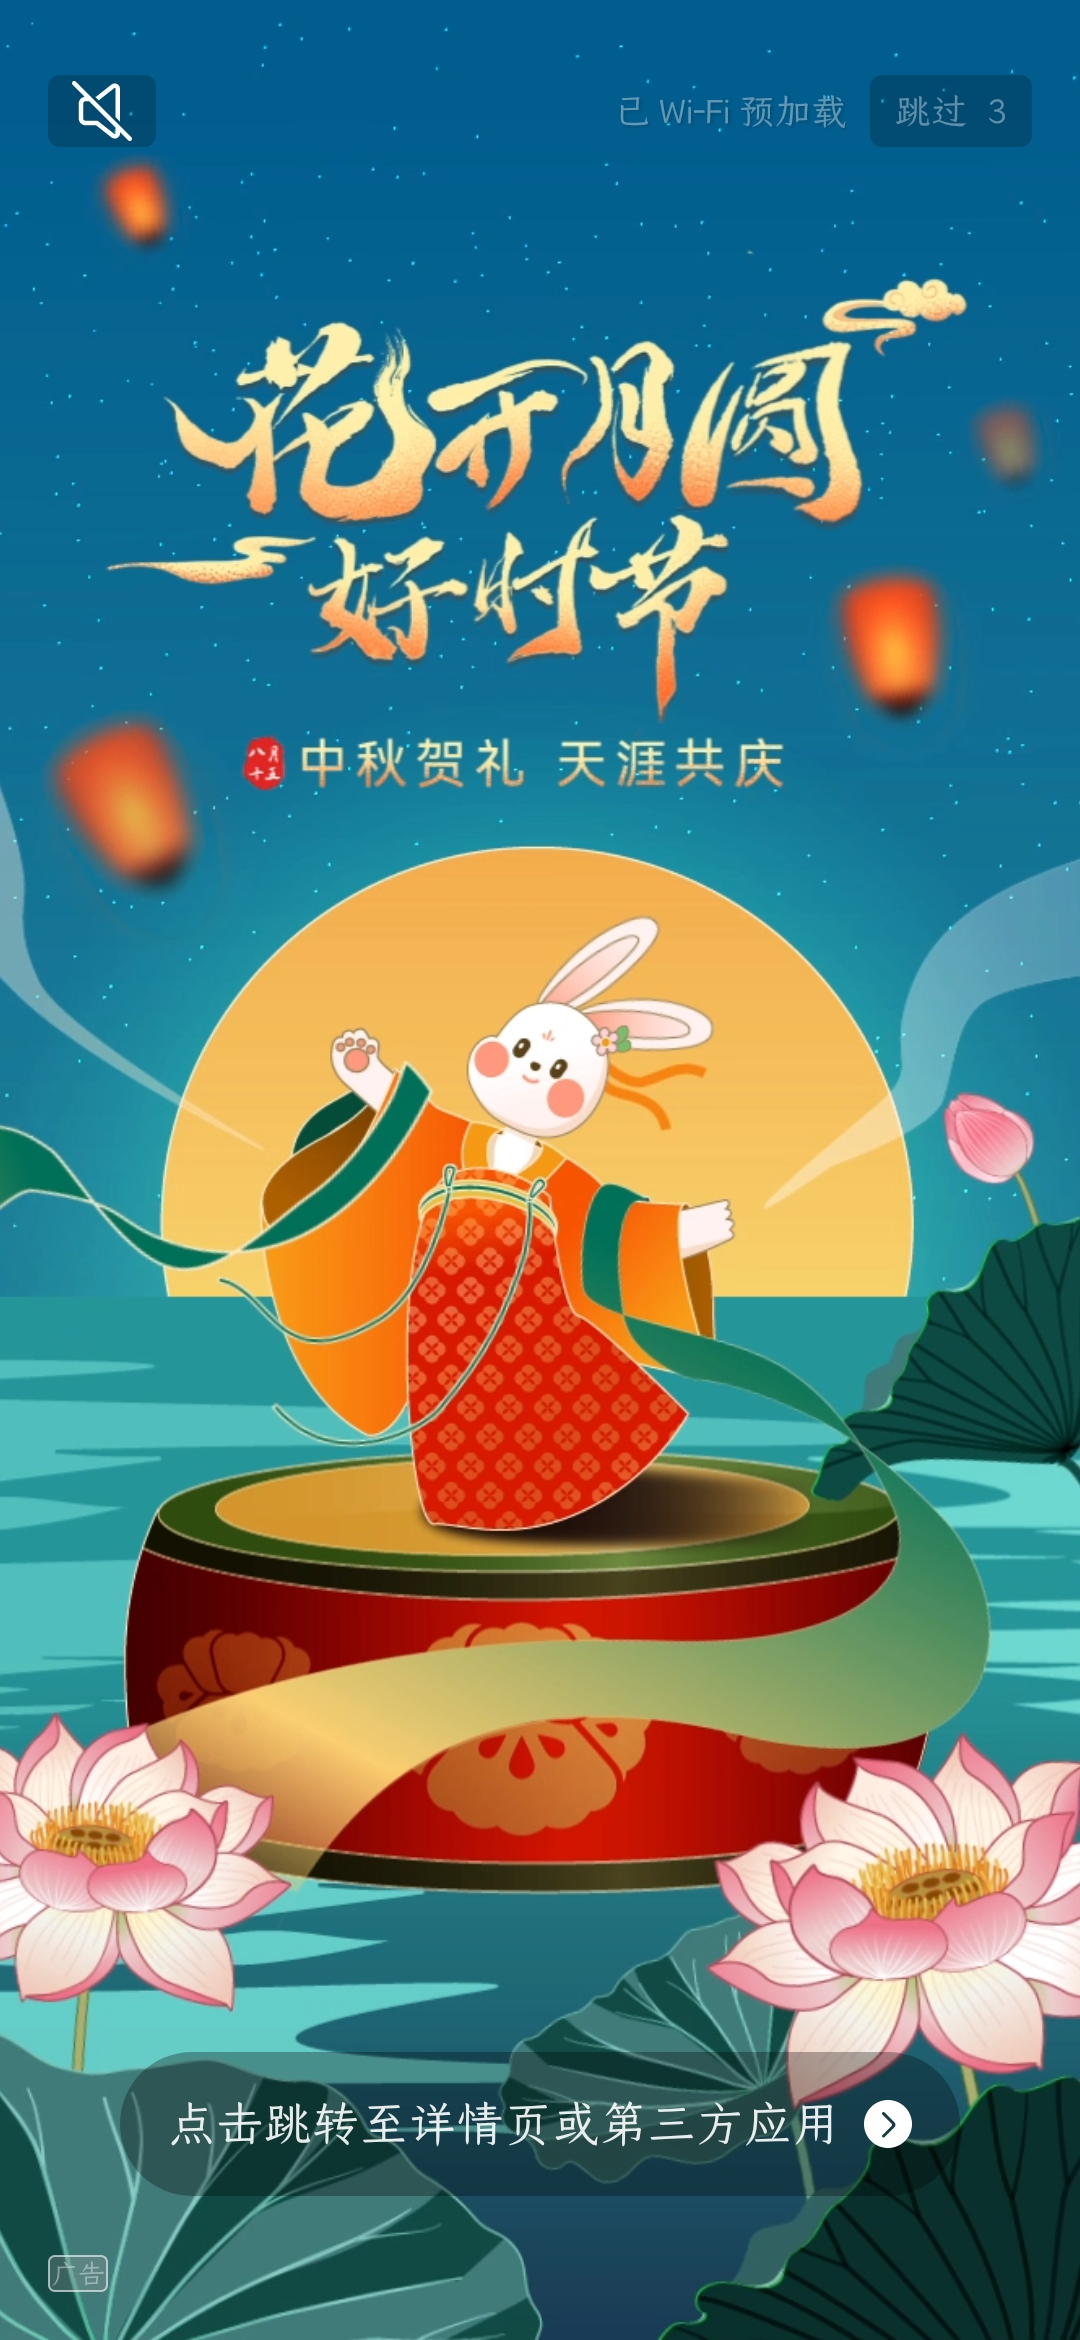skip: (879, 72, 1028, 145)
